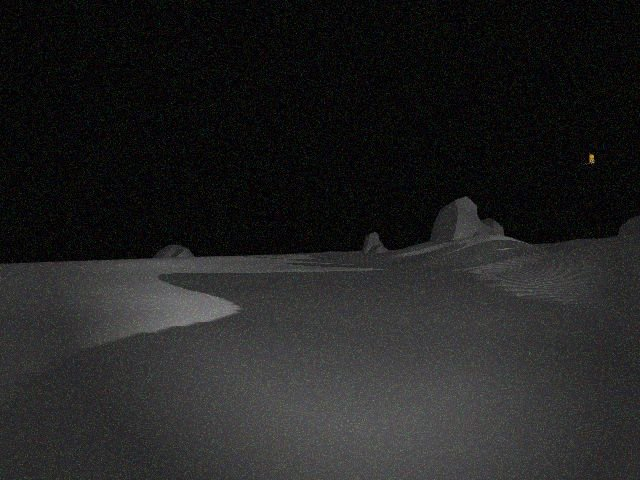cubesat: (579, 152, 597, 168)
